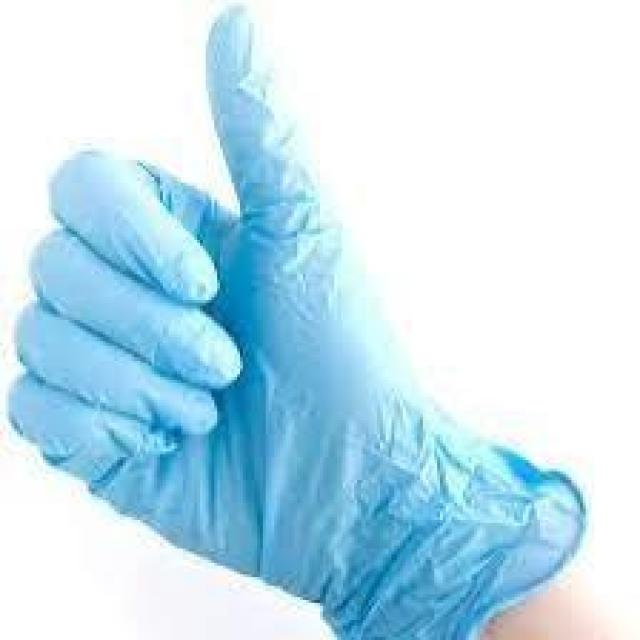Glove: (8, 25, 576, 640)
